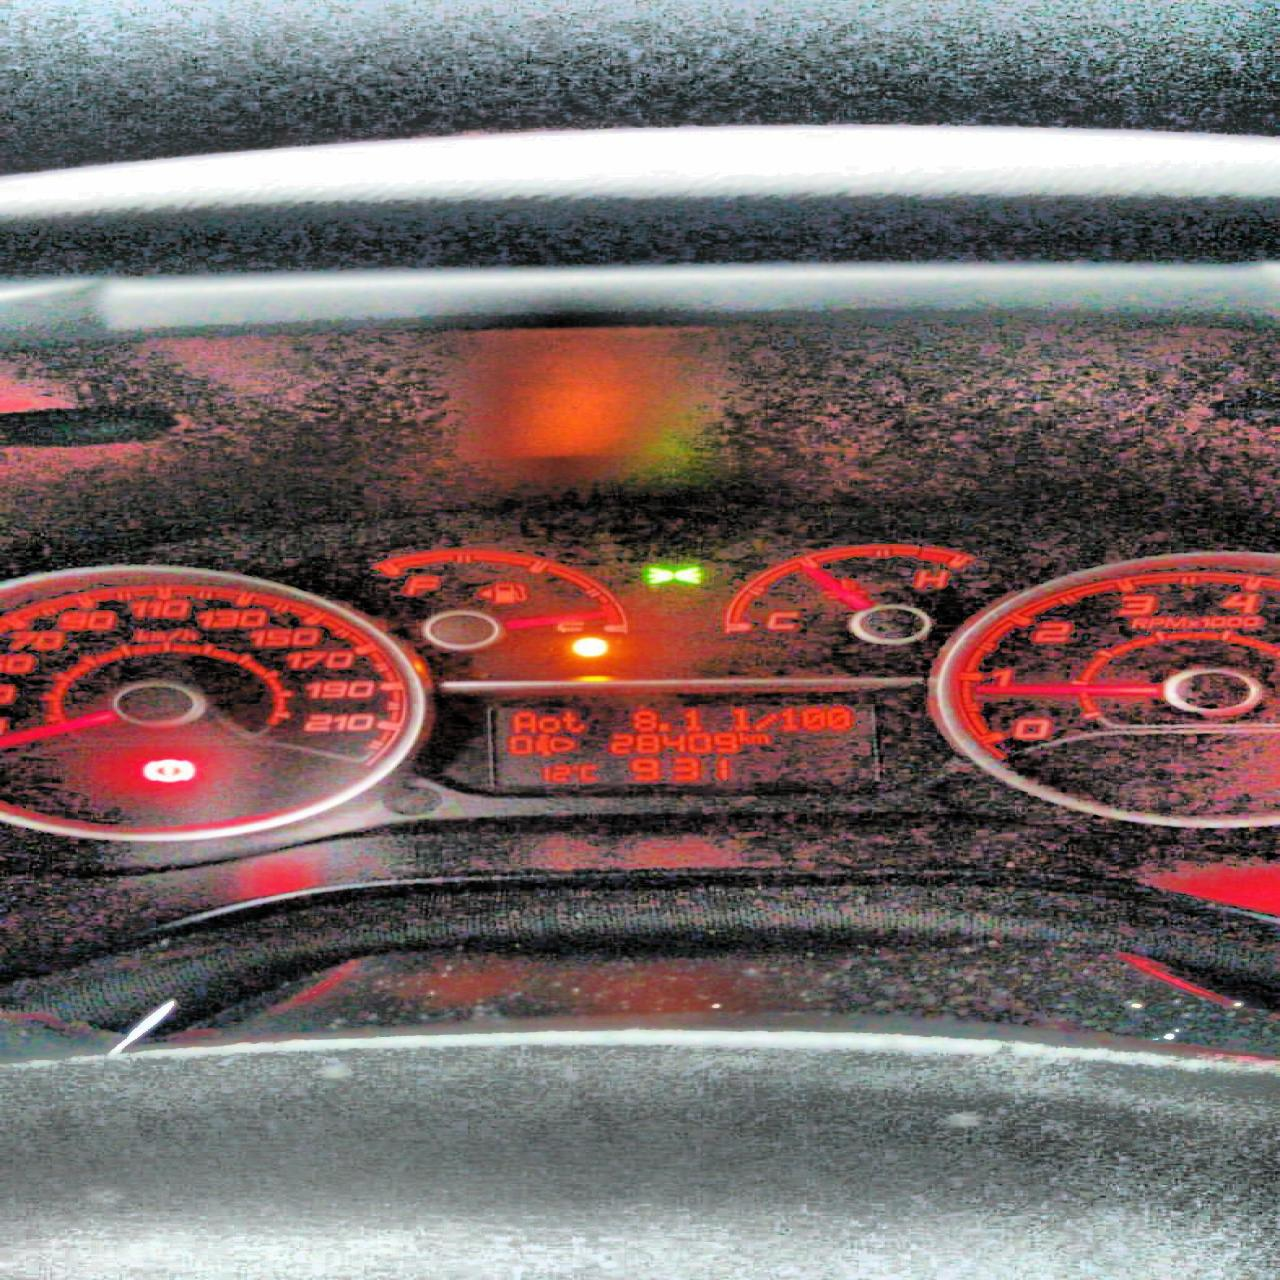-: (655, 722, 674, 731)
0: (505, 735, 536, 756), (801, 707, 825, 730), (685, 733, 713, 753), (826, 707, 851, 729)
1: (680, 708, 701, 731), (713, 756, 731, 779), (779, 707, 797, 730), (537, 765, 549, 781)
2: (605, 733, 634, 754), (549, 764, 568, 782)
3: (668, 756, 701, 781)
4: (659, 733, 683, 753)
8: (628, 708, 658, 731), (633, 734, 659, 754)
9: (628, 756, 662, 781), (713, 731, 738, 753)
X: (509, 708, 537, 734), (558, 709, 585, 733), (726, 707, 750, 731), (750, 713, 779, 730), (535, 714, 561, 733), (579, 763, 600, 782), (748, 733, 772, 743), (735, 731, 750, 743)
odometer: (469, 693, 899, 799)
